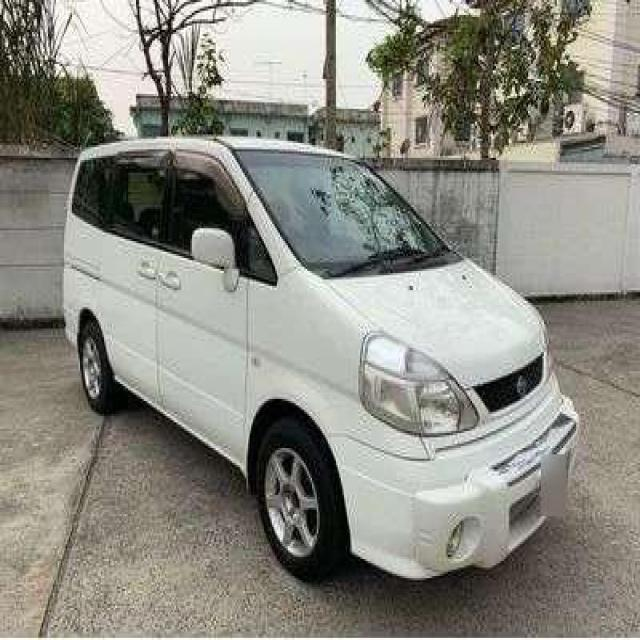back_right_door: (102, 148, 172, 404)
front_glass: (233, 150, 580, 580)
front_right_door: (156, 150, 249, 467)
front_right_light: (358, 331, 480, 436)
hood: (328, 258, 549, 391)
right_mirror: (191, 227, 240, 292)
wheel: (256, 417, 335, 578), (78, 321, 108, 410)
